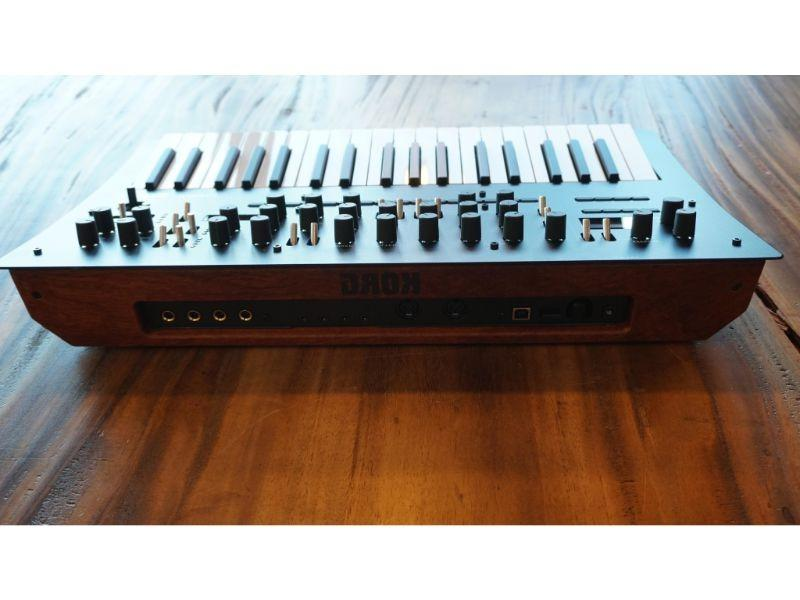synthesizer: (12, 121, 788, 364)
